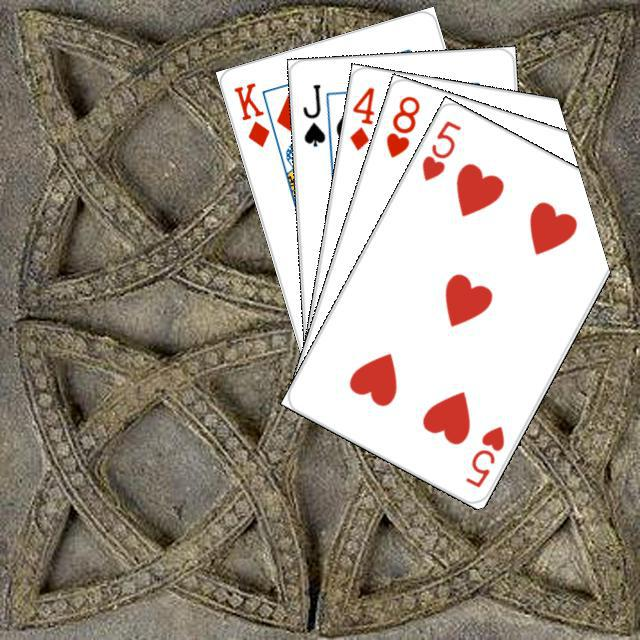4d: (344, 82, 376, 152)
5h: (460, 421, 507, 490), (416, 115, 463, 183)
8h: (381, 90, 422, 160)
Js: (298, 79, 327, 148)
Kd: (228, 77, 271, 149)
